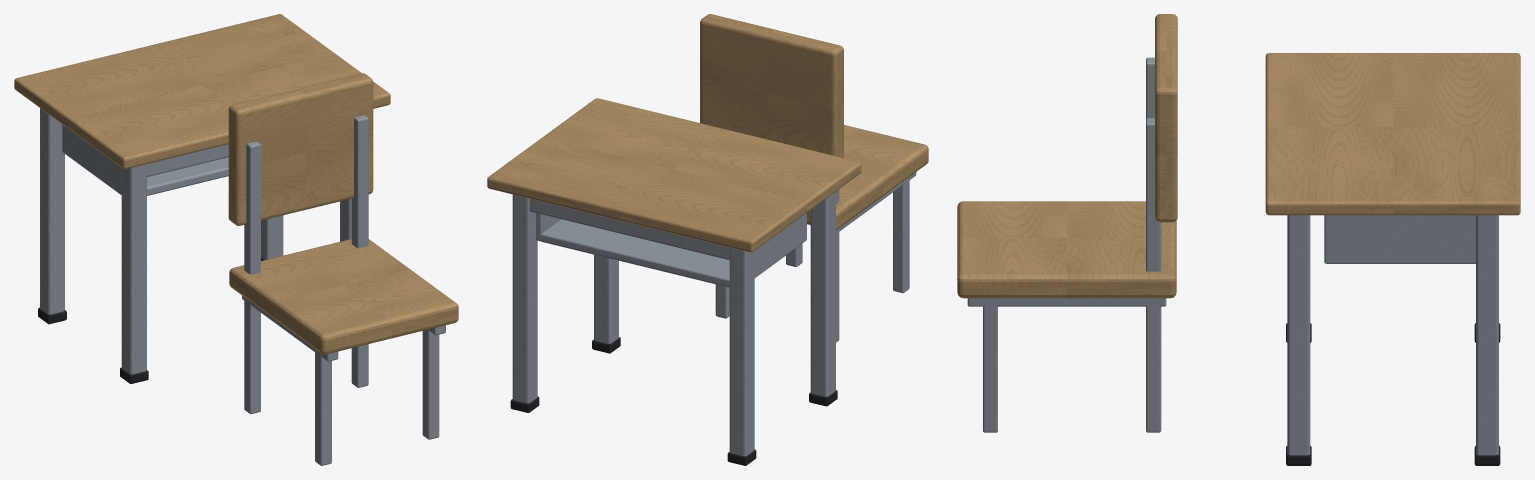
File: classroom-desk.glb
3 views of the same model, side by side, from view 1: azimuth 30°, elevation 25°; view 2: azimuth 150°, elevation 25°; view 3: azimuth 270°, elevation 25° (orthographic). The views are drawn at different scales.
Parts seen in each view (by area): view 1: Laminate worktop, Chair seat, Chair back, Table support leg, Table support leg.001, Chair rear back support, Chair rear back support.001, Chair front leg.001, Chair front leg, Book shelf side, Under-desk book shelf, Under-top frame (+2 smaller); view 2: Laminate worktop, Chair back, Table support leg.001, Table support leg.003, Under-desk book shelf, Table support leg, Chair seat, Under-top frame.001, Table support leg.002, Chair front leg, Book shelf side, Chair rear back support (+1 smaller); view 3: Laminate worktop, Chair seat, Book shelf side.001, Table support leg.002, Table support leg.003, Chair back, Chair rear back support.001, Chair front leg.001, Chair seat bearer.001.
Part boxes in pixels (x1,y1,x2,y2): Laminate worktop: [14, 14, 390, 169]; Chair seat: [229, 239, 458, 354]; Chair back: [228, 73, 373, 225]; Table support leg: [121, 164, 146, 374]; Table support leg.001: [40, 108, 64, 314]; Chair rear back support: [244, 141, 260, 414]; Chair rear back support.001: [351, 115, 368, 387]; Chair front leg.001: [422, 329, 439, 439]; Chair front leg: [315, 349, 331, 465]; Book shelf side: [62, 124, 121, 194]; Under-desk book shelf: [147, 157, 228, 195]; Under-top frame: [147, 144, 228, 176]; Laminate worktop: [487, 98, 861, 252]; Chair back: [700, 14, 843, 157]; Table support leg.001: [729, 247, 754, 456]; Table support leg.003: [512, 194, 537, 403]; Under-desk book shelf: [541, 219, 729, 287]; Table support leg: [810, 191, 835, 396]; Chair seat: [807, 125, 928, 230]; Under-top frame.001: [529, 198, 729, 260]; Table support leg.002: [594, 254, 618, 343]; Chair front leg: [893, 177, 909, 293]; Book shelf side: [754, 213, 806, 277]; Chair rear back support: [836, 189, 839, 342]; Laminate worktop: [1265, 53, 1520, 215]; Chair seat: [957, 201, 1176, 298]; Book shelf side.001: [1324, 215, 1475, 263]; Table support leg.002: [1287, 215, 1310, 455]; Table support leg.003: [1476, 215, 1498, 455]; Chair back: [1155, 14, 1177, 222]; Chair rear back support.001: [1146, 118, 1161, 432]; Chair front leg.001: [983, 298, 997, 432]; Chair seat bearer.001: [967, 298, 1166, 306].
Size of the model in its own units: 0.7 by 0.755 by 1.1.
3 materials, 3 textured.
